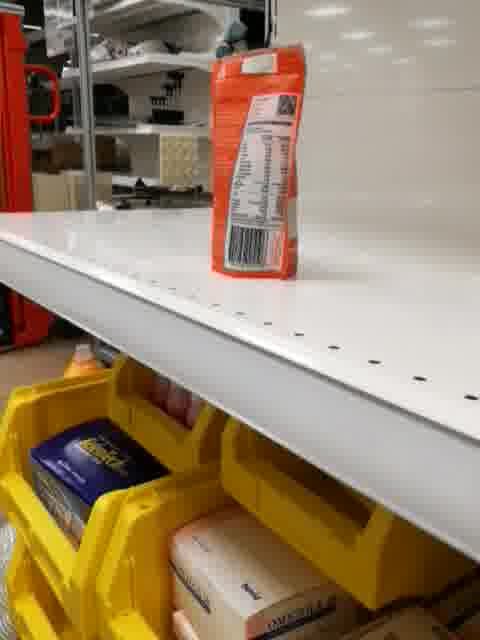whitechia: (207, 40, 308, 283)
